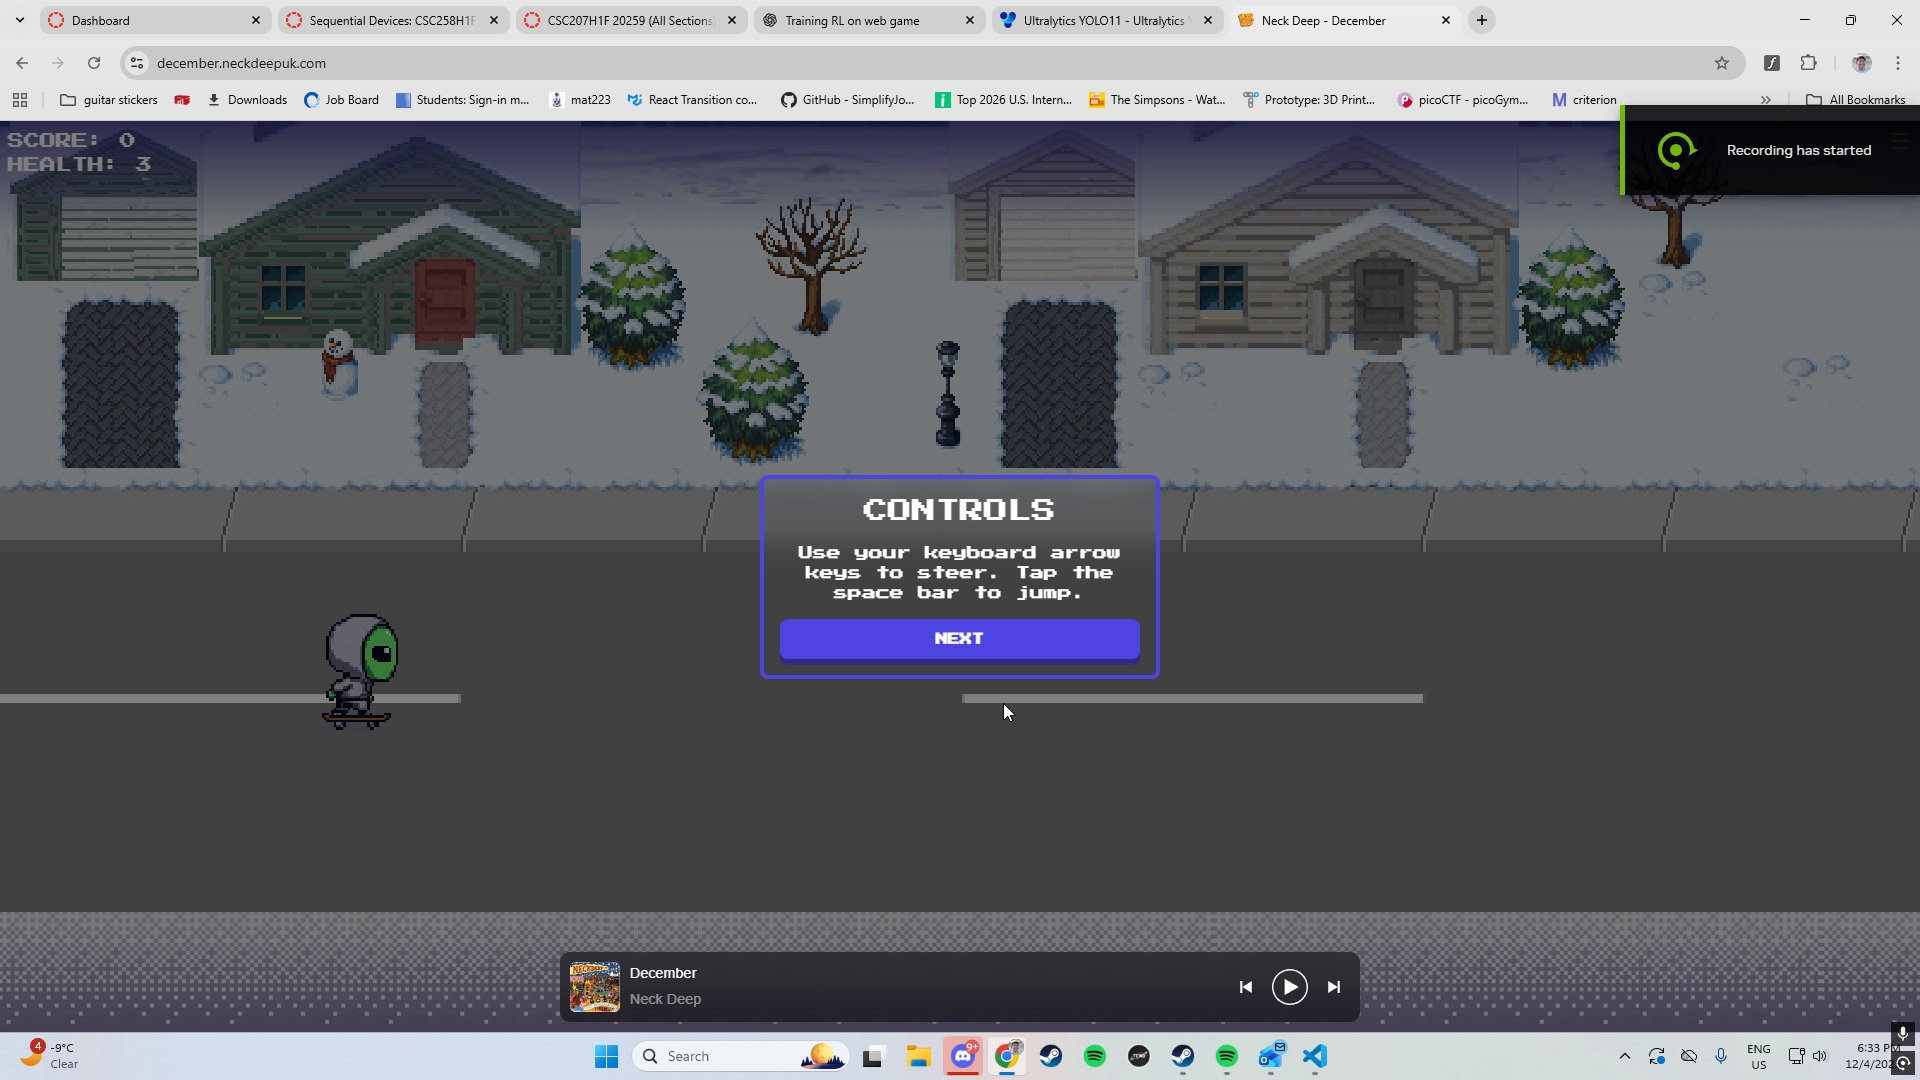Player: (301, 600, 416, 741)
